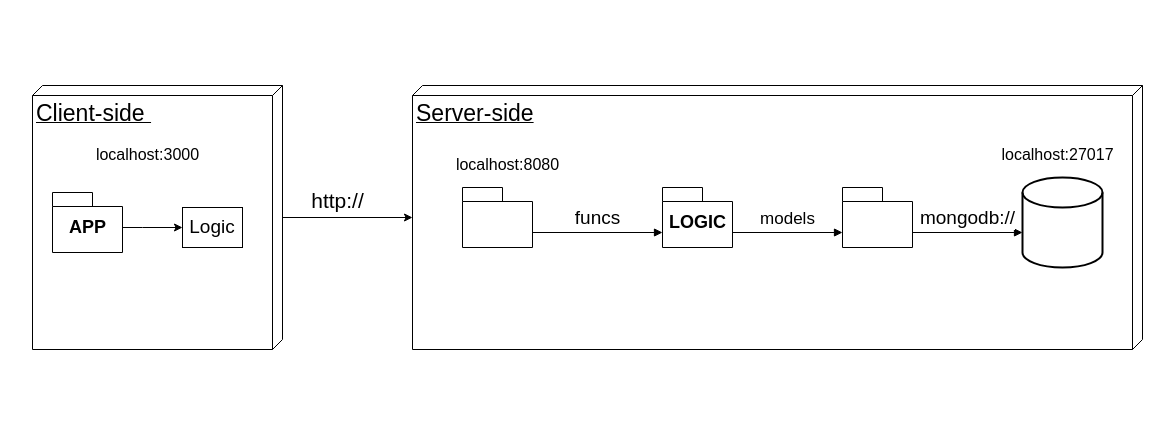
The diagram is 1169 pixels wide and 444 high, and some of its shapes have lost their labels. Here are the shapes that lost their labels. From the top down, the centre of each, then its label:
point 497,217: API
point 877,217: DATA
point 1062,222: db
